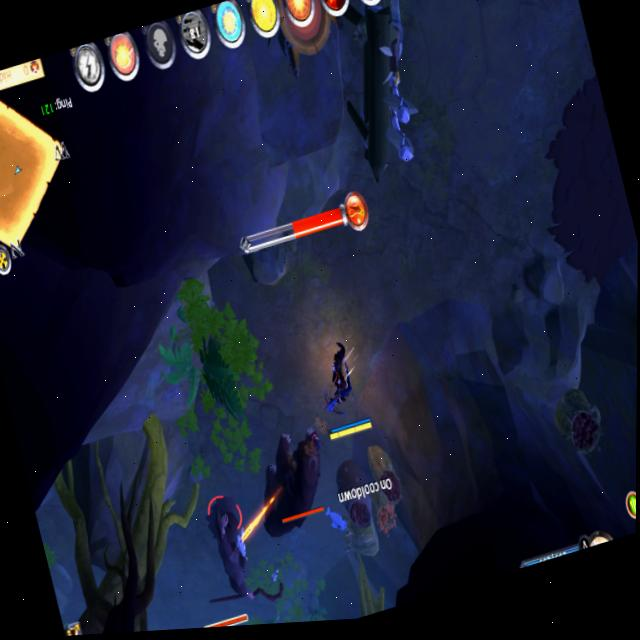ore: (167, 486, 275, 630), (240, 421, 340, 554)
red: (307, 330, 383, 453)
